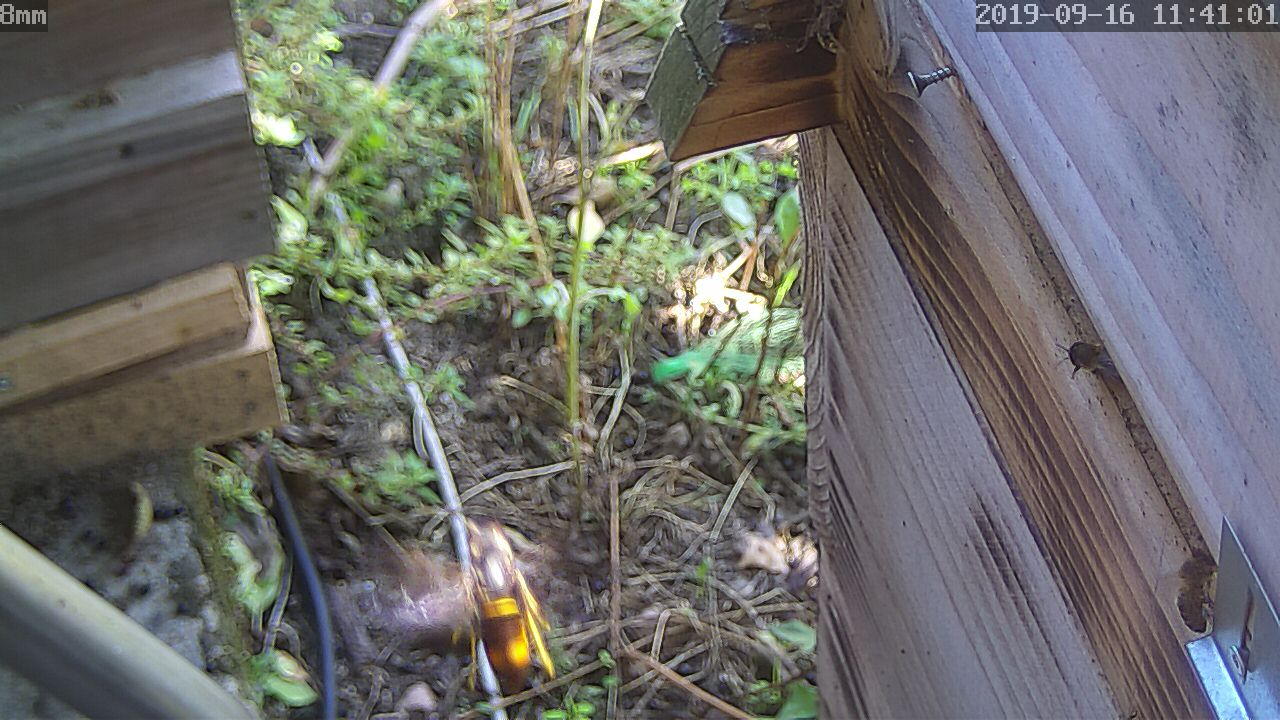bee: (1059, 330, 1131, 394)
